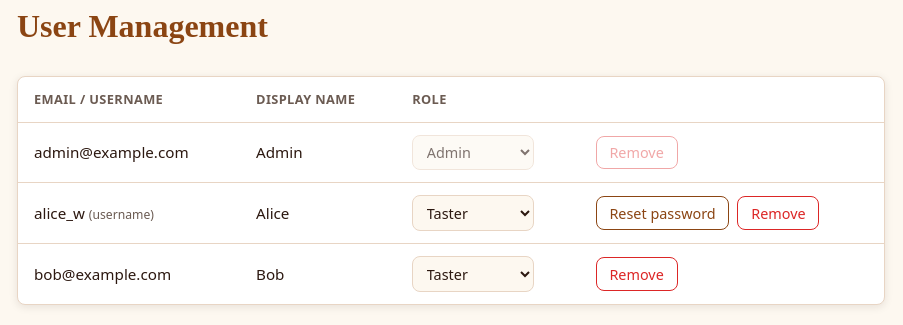
Test case: UserManagementPage — removing users › removes a user after confirmation and refreshes the list
The image size is (903, 325).
Expected: the button with aria-label "Remove Admin" is disabled, [596,136,678,170]
What coordinates should you click on to do the following:
click the button "Remove" in the row of "alice_w"
I would click on:
 (778, 213)
Its box is [738,196,820,230].
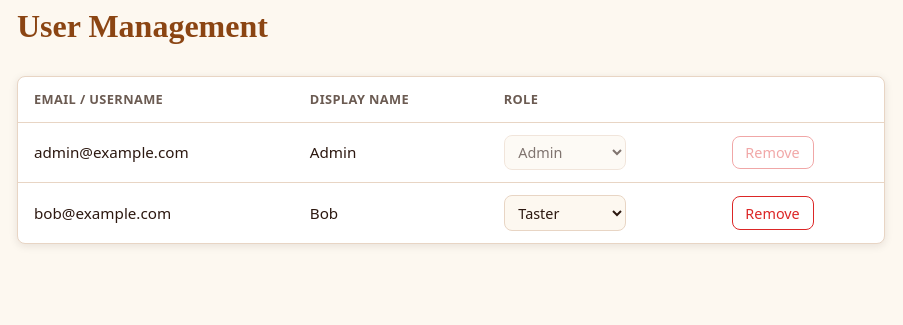
Now the text "alice" is gone
